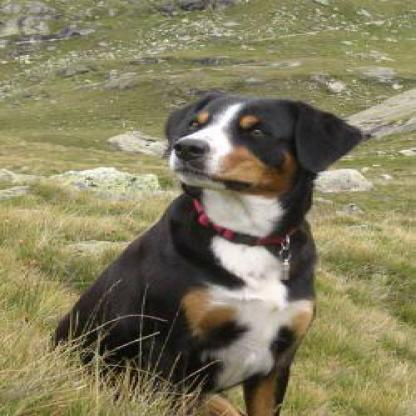EntleBucher: (53, 91, 368, 412)
